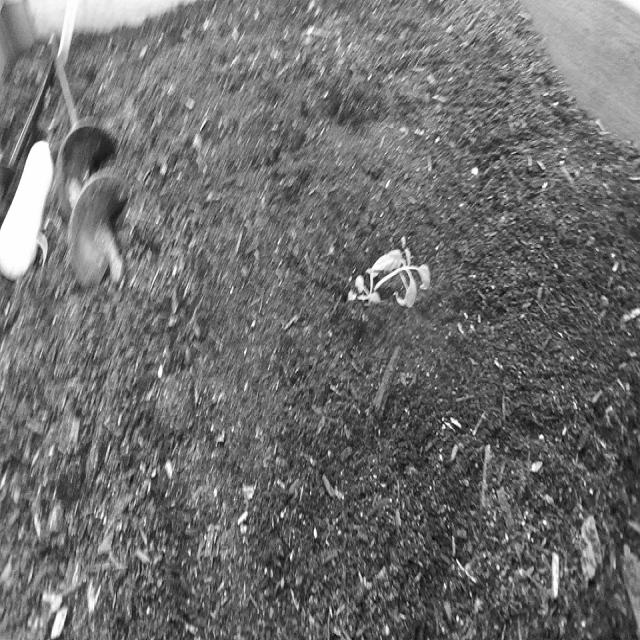Healthy: (343, 240, 433, 312)
